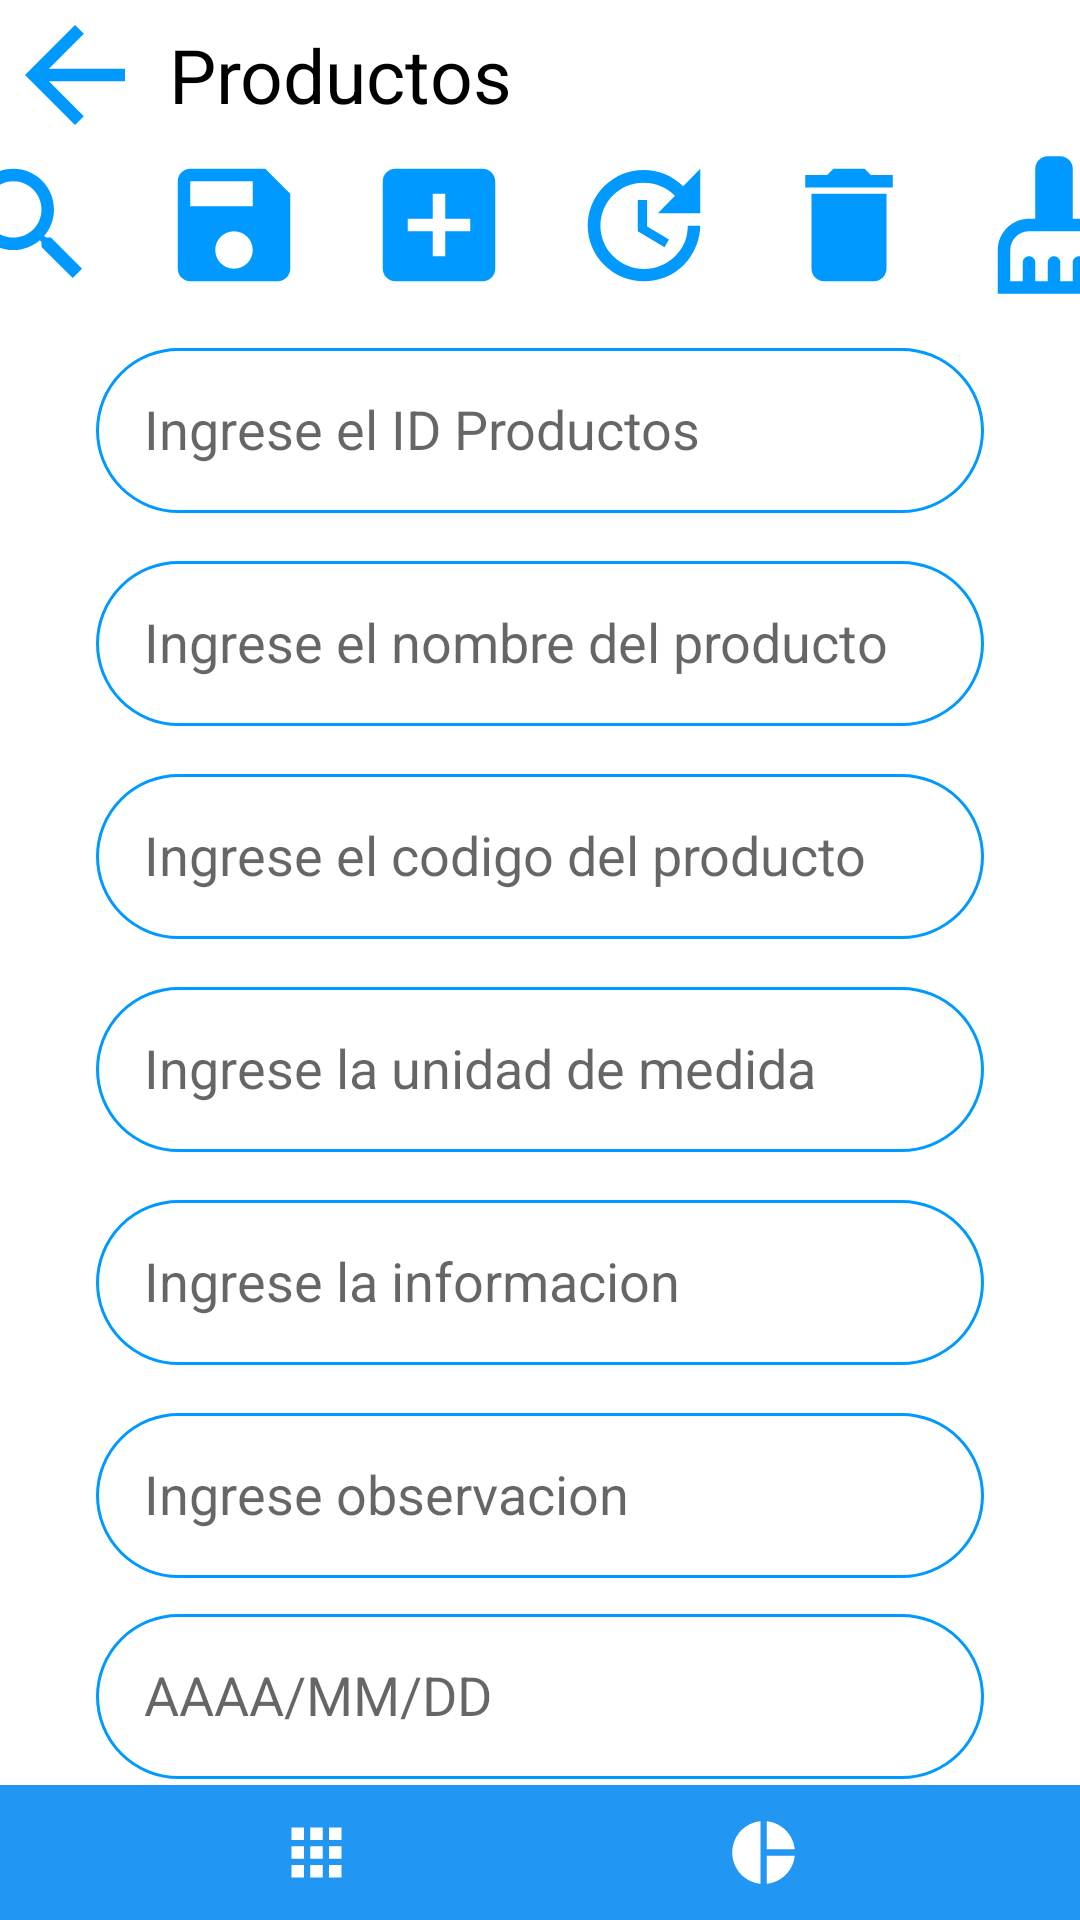

Named icons in this screenshot (1080×1920) and their centers, (x,y):
actualizar: (644,225)
aniadir: (439,225)
apps: (316,1852)
eliminar: (849,225)
guardar: (234,225)
pie chart: (763,1852)
volver: (75,75)
